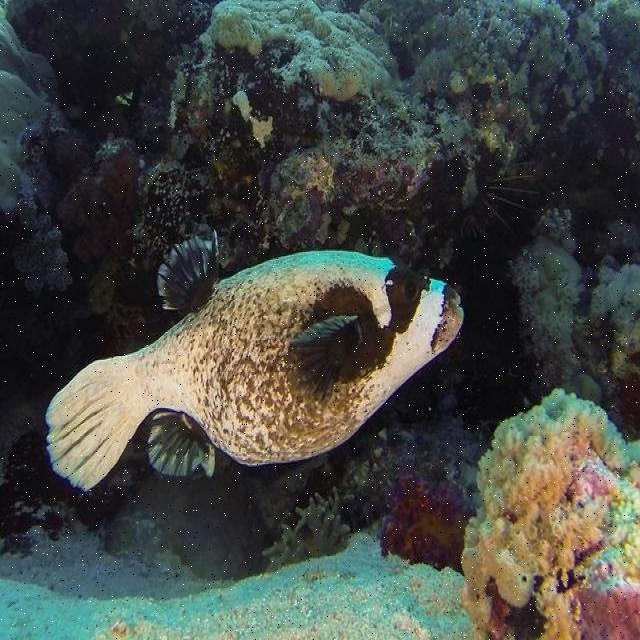fish: (46, 230, 464, 491)
reefs: (459, 388, 639, 639), (379, 470, 478, 576), (263, 487, 355, 573)
